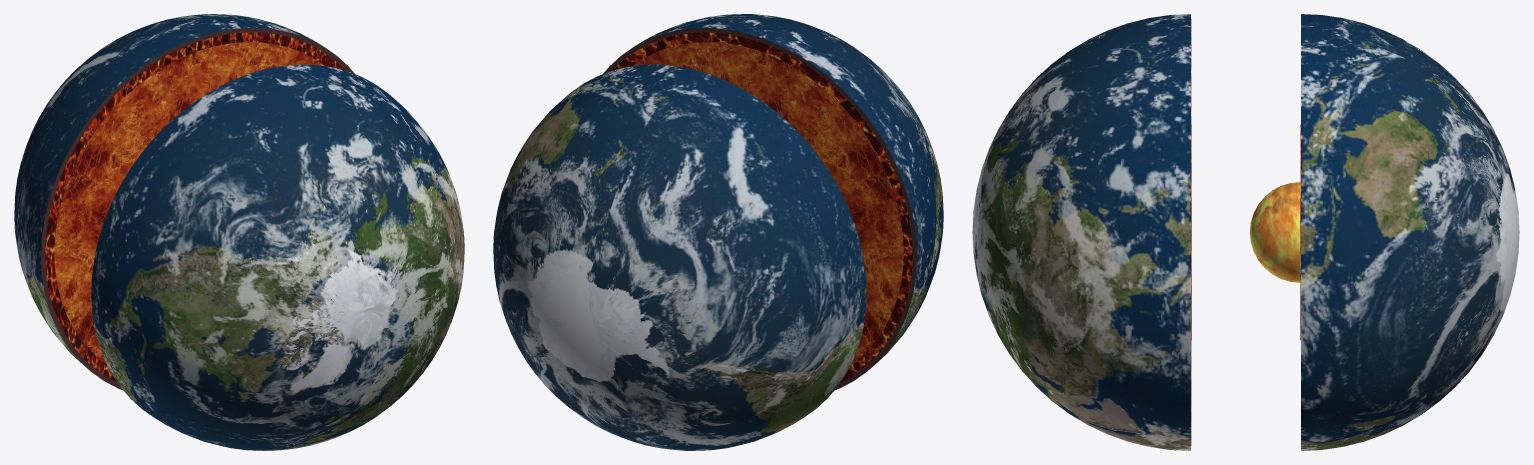
The model's file is earth-core.glb.
3 renders of one model, left to right at view 1: azimuth 30°, elevation 25°; view 2: azimuth 150°, elevation 25°; view 3: azimuth 270°, elevation 25°, orthographic. The views are drawn at different scales.
Parts seen in each view (by area): view 1: skin001, mante, skin, stone; view 2: skin, mante001, skin001, stone001; view 3: skin, skin001, earth_inner_core.
Boxes of the visible parts, box(x1,y1,x2,y2) form: skin001: box(91, 64, 464, 450); mante: box(54, 42, 324, 363); skin: box(14, 14, 354, 390); stone: box(45, 32, 345, 382); skin: box(493, 64, 866, 450); mante001: box(633, 42, 903, 363); skin001: box(603, 14, 943, 390); stone001: box(612, 32, 912, 382); skin: box(1301, 14, 1519, 450); skin001: box(972, 14, 1190, 450); earth_inner_core: box(1250, 182, 1300, 282).
Size of the model in its own units: 3.79 by 3.79 by 4.74.
Materials: 7 (6 with a texture image).
